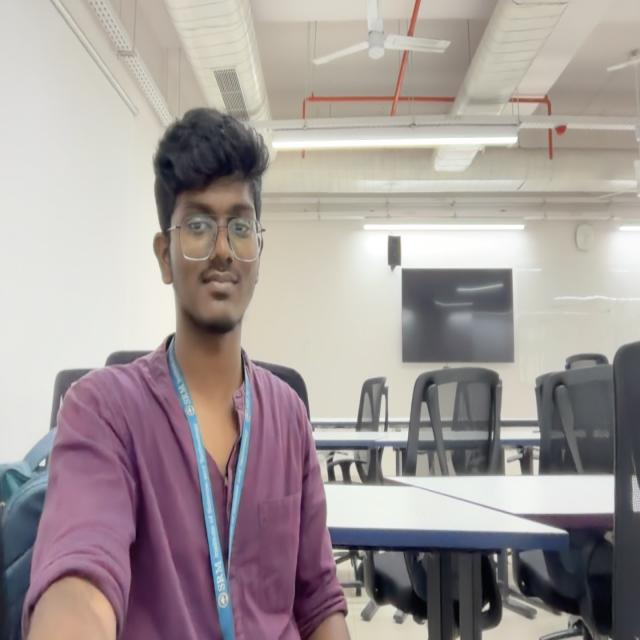ravindra: (152, 105, 270, 336)
